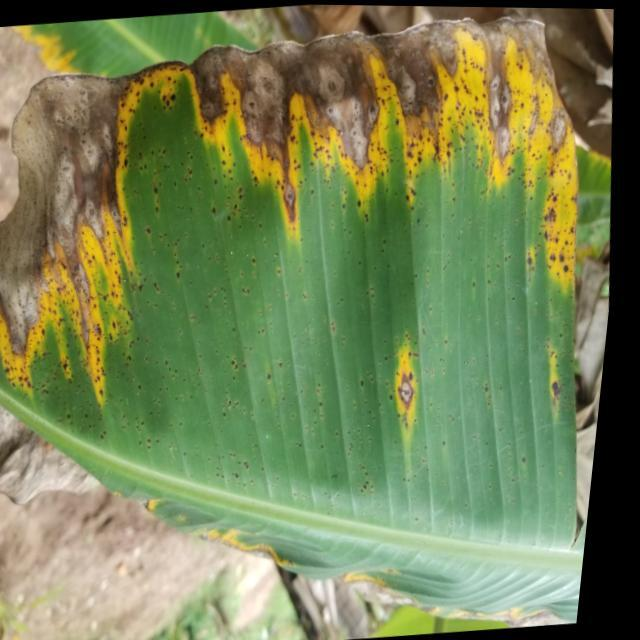Early_rust: (0, 0, 598, 553)
